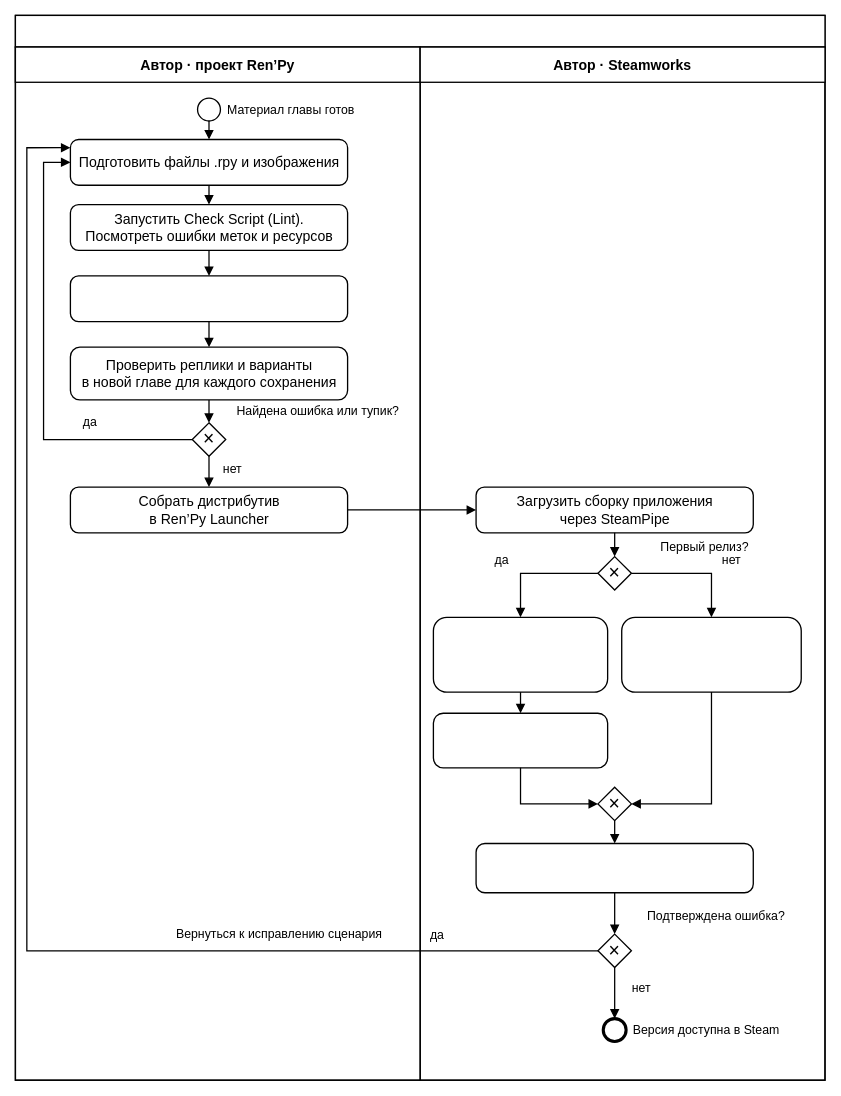
The diagram is 841 pixels wide and 1096 high, and some of its shapes have lost their labels. The centre of each missing label's shape, as x and y in pixels:
"AS-IS · Проверка главы, выпуск в Steam и исправление ошибок" goes at point (419, 30).
"Выпустить игру в Steamworks" goes at point (520, 740).
"Подать страницу, затем сборку на проверку. Получить одобрение" goes at point (520, 654).
"Подготовить сохранения после разных решений" goes at point (208, 298).
"Проверить обновление. Назначить сборку ветке default" goes at point (711, 654).
"Проверить опубликованную версию и сообщения игроков" goes at point (614, 867).
